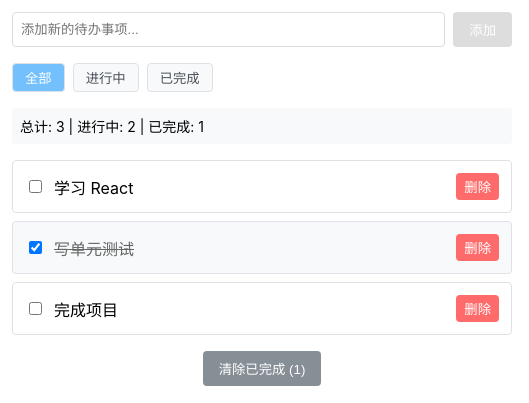
Test: TodoList组件 › 过滤功能 › 应该正确过滤显示已完成的待办事项
What coordinates should you click on to do the following:
click the button with test id "filter-completed"
I would click on:
 (180, 78)
Its box is [147,63,213,92].
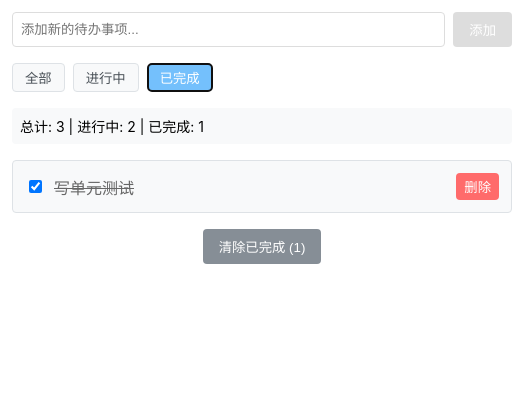
Expected: the text "写单元测试" is shown, [54,178,134,198]
Expected: the text "学习 React" is gone
Expected: the text "完成项目" is gone
